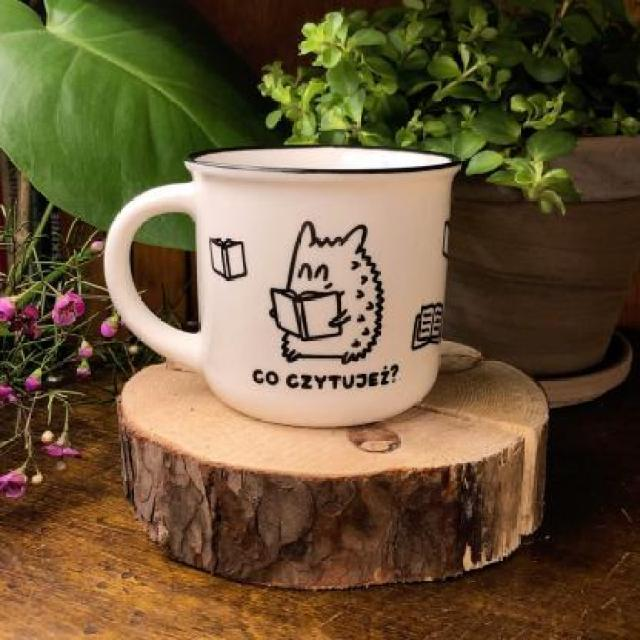cup: (97, 143, 467, 431)
